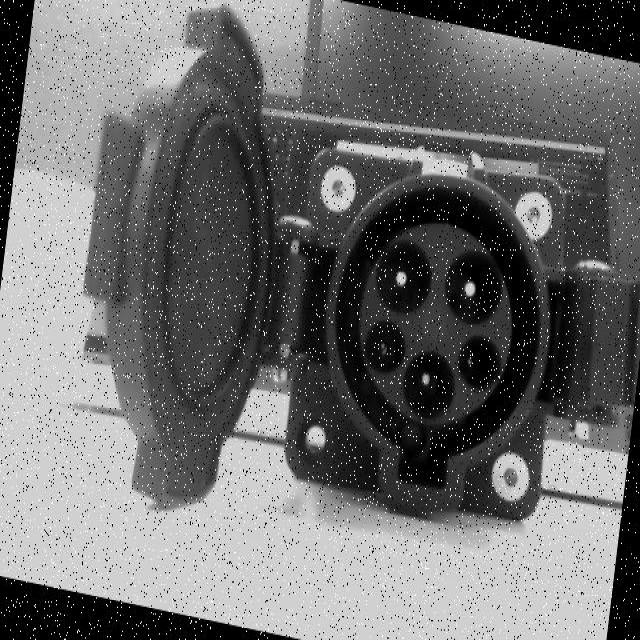Type 1: (340, 183, 555, 445)
